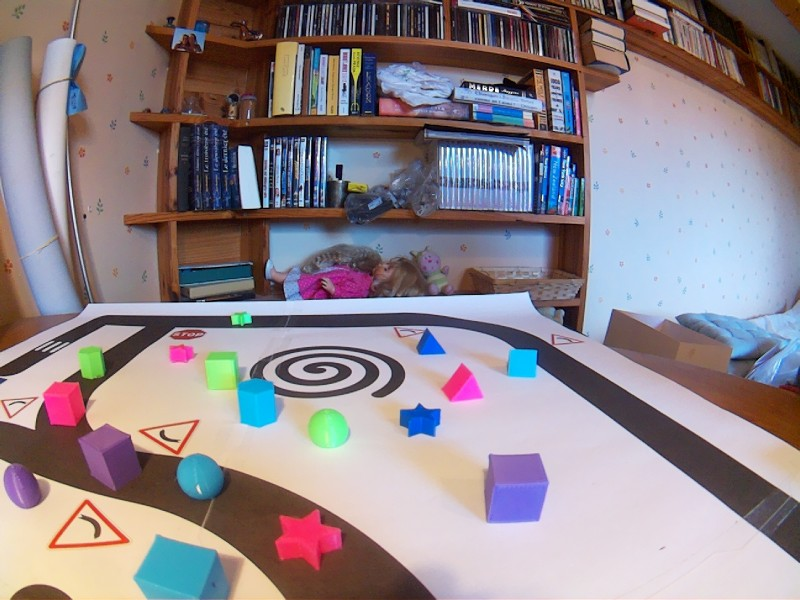ball: (172, 451, 229, 504), (3, 459, 46, 513), (305, 405, 350, 454)
cube: (131, 531, 236, 600), (482, 448, 550, 528), (77, 421, 145, 493), (42, 379, 90, 432)
hexagon: (236, 377, 281, 433), (77, 343, 108, 383)
nest: (247, 342, 408, 403)
star: (269, 504, 347, 573), (394, 399, 447, 442), (164, 341, 198, 367), (227, 309, 253, 328)
triangle: (438, 358, 486, 406), (505, 345, 538, 383), (413, 327, 449, 361)
